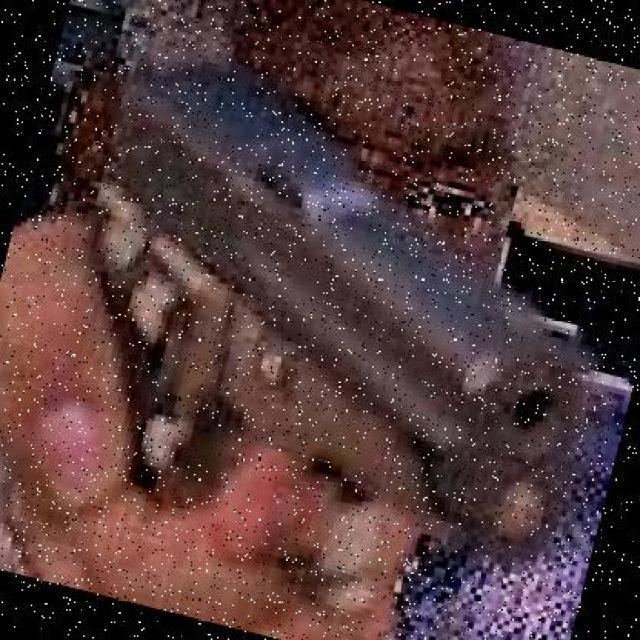rifle: (87, 57, 597, 581)
